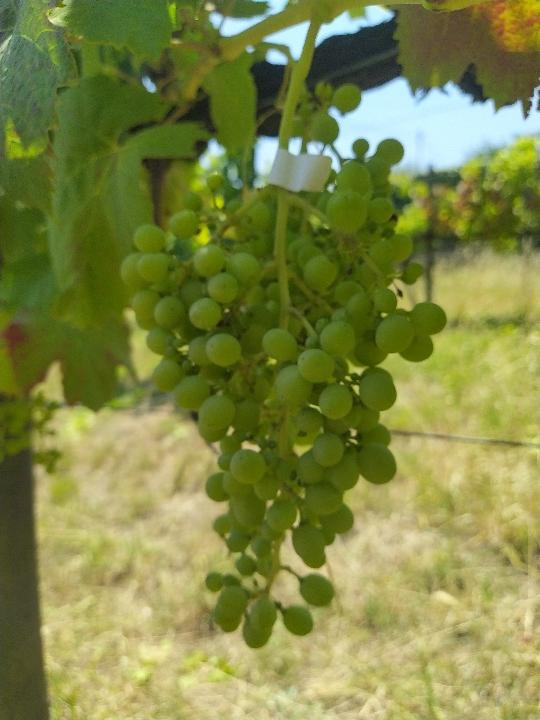grape: (117, 138, 448, 653)
